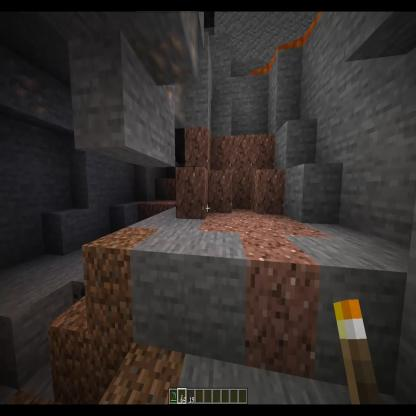iron ore: (136, 11, 198, 85), (175, 80, 185, 127)
